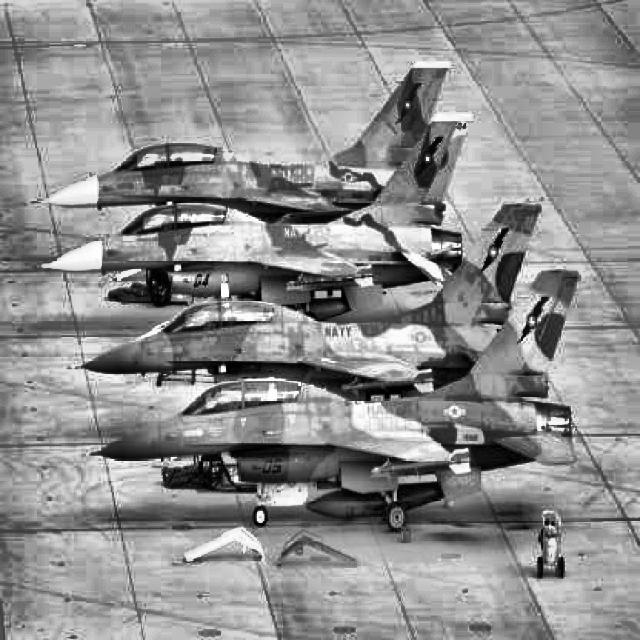F16: (81, 266, 582, 532), (67, 199, 542, 401), (33, 109, 473, 322), (32, 58, 451, 224)
